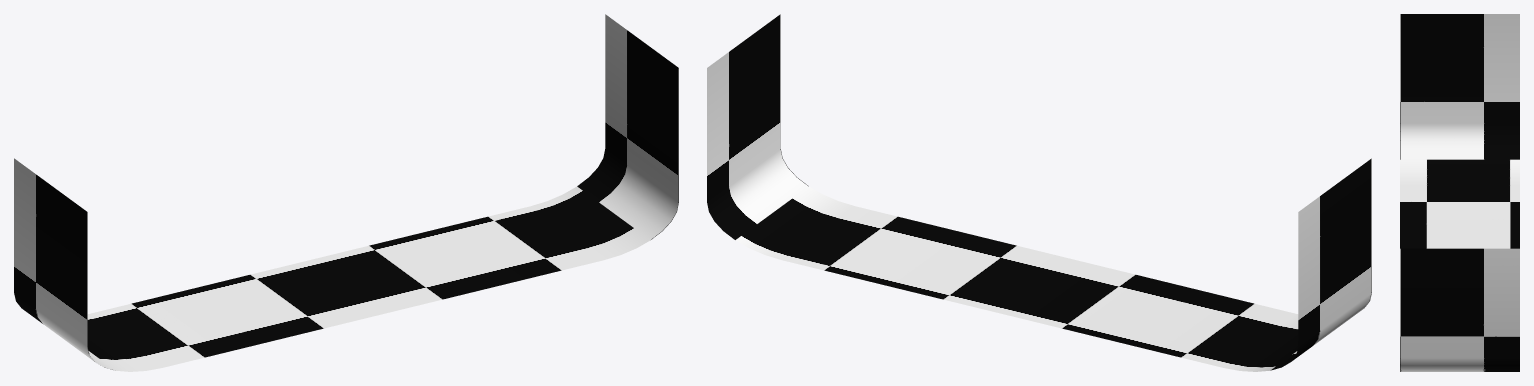
File: FinishLine.fbx
The picture shows the model from 3 angles, left to right: view 1: azimuth 30°, elevation 25°; view 2: azimuth 150°, elevation 25°; view 3: azimuth 270°, elevation 25°; orthographic projection. The views are drawn at different scales.
Parts seen in each view (by area): view 1: FinishLine; view 2: FinishLine; view 3: FinishLine.
Boxes of the visible parts, x1,y1,x2,y2 form: FinishLine: (14, 14, 678, 371); FinishLine: (707, 14, 1371, 371); FinishLine: (1400, 14, 1519, 371).
Bounding box in the file's own units: 308 × 86.55 × 66.4.
